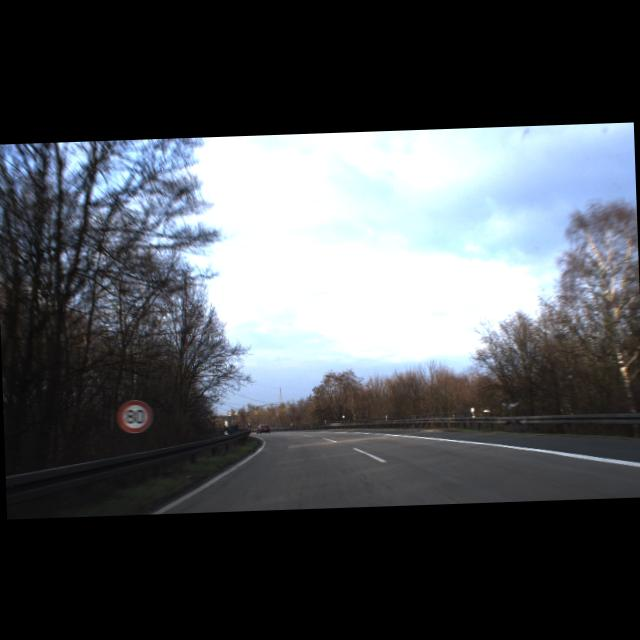prohibitory: (116, 398, 152, 433)
